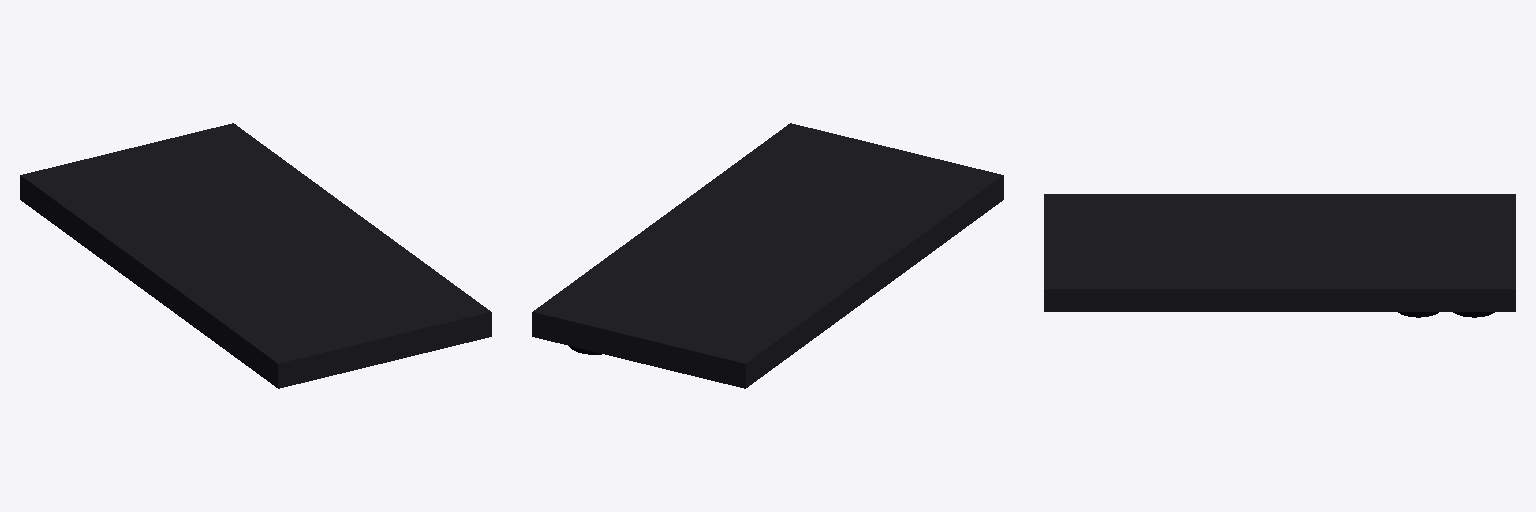
The robot description file, URDF, robot "iphone_18_pro_max":
<?xml version="1.0"?>
<!-- iPhone 18 Pro Max: generated by imuninn from Apple's dimensional drawings (iphone-frames dataset). Frames: device = display centre on the front glass (x right, y top, z out of the screen); cam_*_optical = OpenCV axes. Geometry and mass are approximate. -->
<robot name="iphone_18_pro_max">
  <material name="iphone_body">
    <color rgba="0.15 0.15 0.17 1" />
  </material>
  <material name="iphone_lens">
    <color rgba="0.05 0.05 0.06 1" />
  </material>
  <link name="device">
    <visual name="body">
      <origin xyz="0 0 -0.004375" rpy="0 0 0" />
      <geometry>
        <box size="0.07798 0.16343 0.00875" />
      </geometry>
      <material name="iphone_body" />
    </visual>
    <collision name="body">
      <origin xyz="0 0 -0.004375" rpy="0 0 0" />
      <geometry>
        <box size="0.07798 0.16343 0.00875" />
      </geometry>
    </collision>
    <visual name="lens_ultra_wide">
      <origin xyz="0.02462 0.067345 -0.011195" rpy="0 0 0" />
      <geometry>
        <cylinder radius="0.00829" length="0.00489" />
      </geometry>
      <material name="iphone_lens" />
    </visual>
    <visual name="lens_main">
      <origin xyz="0.02462 0.048105 -0.011195" rpy="0 0 0" />
      <geometry>
        <cylinder radius="0.00829" length="0.00489" />
      </geometry>
      <material name="iphone_lens" />
    </visual>
    <visual name="lens_telephoto">
      <origin xyz="0.0065 0.057725 -0.011195" rpy="0 0 0" />
      <geometry>
        <cylinder radius="0.00829" length="0.00489" />
      </geometry>
      <material name="iphone_lens" />
    </visual>
    <inertial>
      <origin xyz="0 0 -0.004375" rpy="0 0 0" />
      <mass value="0.256" />
      <inertia ixx="0.000571433" ixy="0" ixz="0" iyy="0.000131359" iyz="0" izz="0.000699525" />
    </inertial>
  </link>
  <link name="magsafe" />
  <joint name="device_to_magsafe" type="fixed">
    <parent link="device" />
    <child link="magsafe" />
    <origin xyz="0 5e-06 -0.00875" rpy="3.14159265 0 3.14159265" />
  </joint>
  <link name="cam_ultra_wide_optical" />
  <joint name="device_to_cam_ultra_wide_optical" type="fixed">
    <parent link="device" />
    <child link="cam_ultra_wide_optical" />
    <origin xyz="0.02462 0.067345 -0.01364" rpy="3.14159265 0 -1.57079633" />
  </joint>
  <link name="cam_main_optical" />
  <joint name="device_to_cam_main_optical" type="fixed">
    <parent link="device" />
    <child link="cam_main_optical" />
    <origin xyz="0.02462 0.048105 -0.01364" rpy="3.14159265 0 -1.57079633" />
  </joint>
  <link name="cam_telephoto_optical" />
  <joint name="device_to_cam_telephoto_optical" type="fixed">
    <parent link="device" />
    <child link="cam_telephoto_optical" />
    <origin xyz="0.0065 0.057725 -0.01364" rpy="3.14159265 0 -1.57079633" />
  </joint>
  <link name="cam_front_optical" />
  <joint name="device_to_cam_front_optical" type="fixed">
    <parent link="device" />
    <child link="cam_front_optical" />
    <origin xyz="0.00491 0.073805 0" rpy="0 0 -1.57079633" />
  </joint>
  <link name="imu" />
  <joint name="device_to_imu" type="fixed">
    <parent link="device" />
    <child link="imu" />
    <origin xyz="0 0 0" rpy="0 0 0" />
  </joint>
</robot>

--- Facts derived from the render (not from the file) ---
Views: 3 orthographic renders of the robot side by side, from view 1: azimuth 30°, elevation 25°; view 2: azimuth 150°, elevation 25°; view 3: azimuth 270°, elevation 25°.
Model iphone_18_pro_max with 7 links and 6 joints (6 fixed), rooted at device, posed every joint at zero.
Links seen in each view (by area): view 1: device; view 2: device; view 3: device.
Link boxes in pixels (box(x1,y1,x2,y2)): device: box(20, 123, 491, 388); device: box(532, 123, 1003, 388); device: box(1044, 194, 1515, 317).
Size in the robot's own frame: 0.078 by 0.1634 by 0.0136 metres.
Geometry: primitives only (box / cylinder / sphere), no mesh files.
